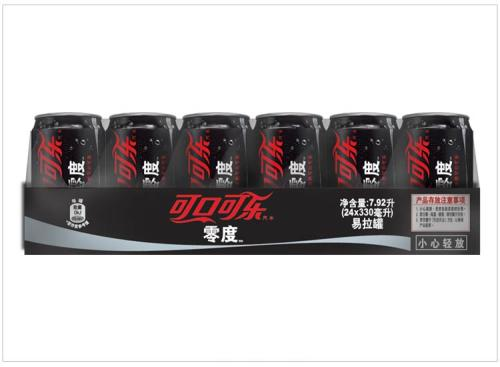coke_zero: (18, 111, 104, 254), (179, 111, 257, 256), (106, 110, 181, 257), (401, 111, 481, 196), (326, 113, 401, 193), (256, 112, 326, 191)
